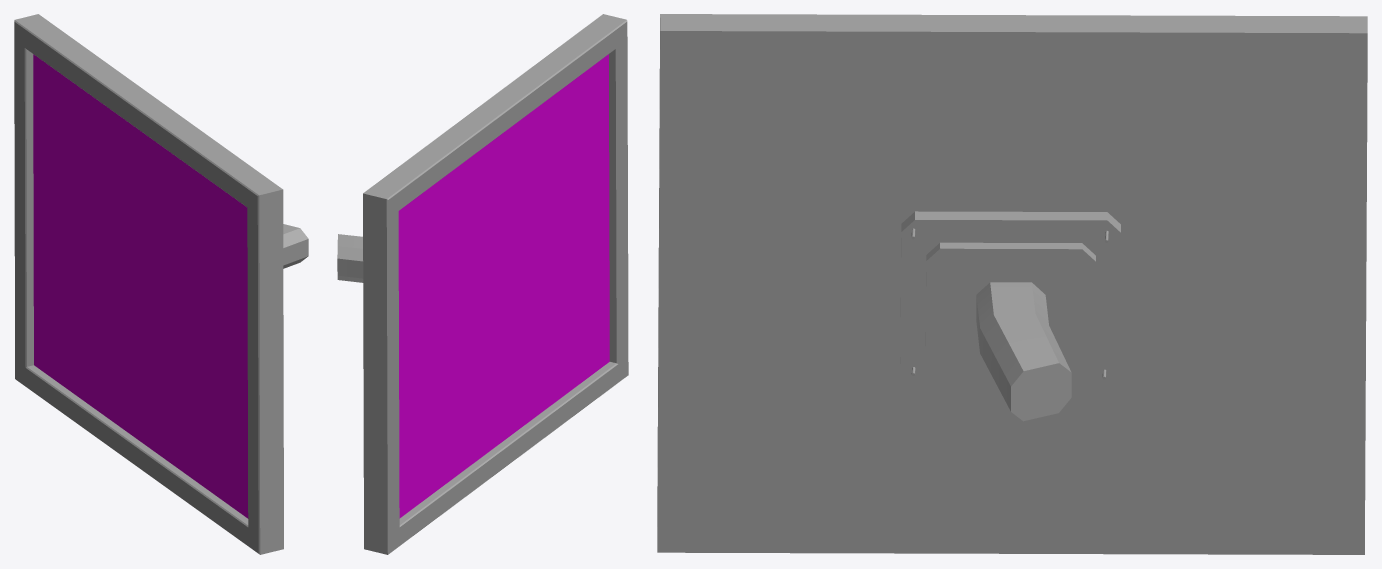
The model's file is SciFi_Monitor_Mesh_01.fbx.
3 renders of one model, left to right at view 1: azimuth 30°, elevation 25°; view 2: azimuth 150°, elevation 25°; view 3: azimuth 270°, elevation 25°, orthographic. The views are drawn at different scales.
Parts seen in each view (by area): view 1: Screen_01, Monitor_01, SciFi_Monitor_Mesh_01; view 2: Screen_01, Monitor_01, SciFi_Monitor_Mesh_01; view 3: Monitor_01, SciFi_Monitor_Mesh_01.
Part boxes in pixels (<box>): Screen_01: <box>33,54,248,518</box>; Monitor_01: <box>14,14,283,554</box>; SciFi_Monitor_Mesh_01: <box>283,224,308,268</box>; Screen_01: <box>398,54,609,518</box>; Monitor_01: <box>363,14,628,554</box>; SciFi_Monitor_Mesh_01: <box>337,234,363,282</box>; Monitor_01: <box>657,14,1367,554</box>; SciFi_Monitor_Mesh_01: <box>976,282,1071,421</box>.
Size of the model in its own units: 34.65 by 69.3 by 84.99.
